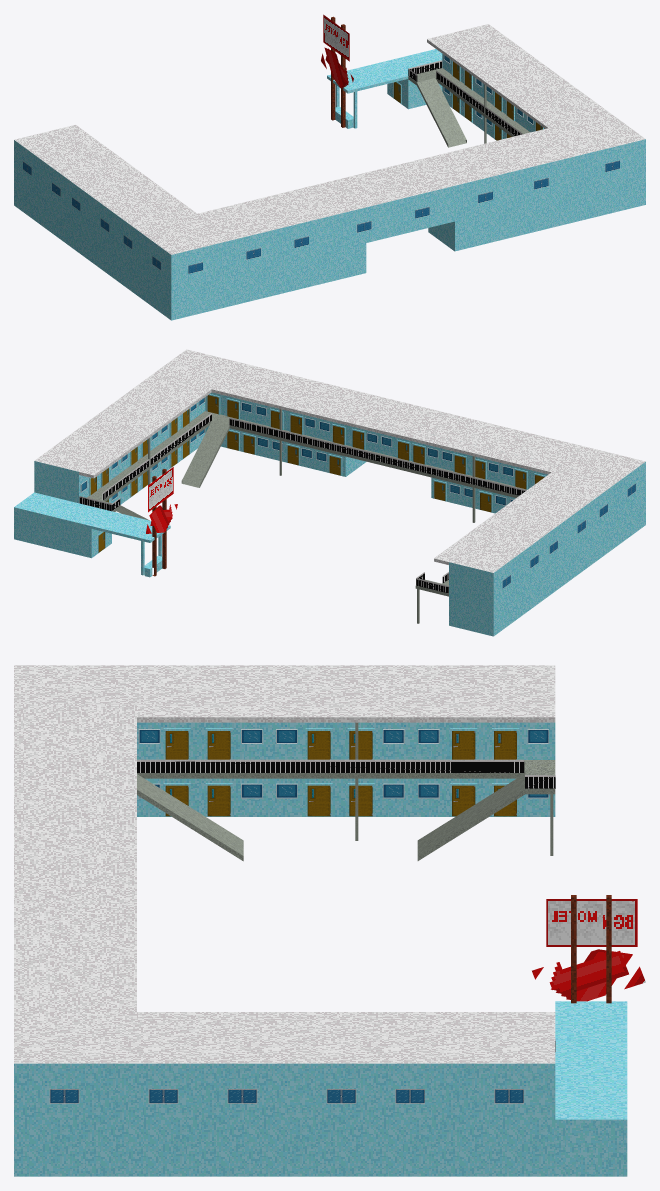
File: BGN-MOTEL.fbx
The picture shows the model from 3 angles, top to bottom: view 1: azimuth 30°, elevation 25°; view 2: azimuth 150°, elevation 25°; view 3: azimuth 270°, elevation 25°; orthographic projection. The views are drawn at different scales.
Parts seen in each view (by area): view 1: BGN_MOTEL; view 2: BGN_MOTEL; view 3: BGN_MOTEL.
Part boxes in pixels (bbox=[...]): BGN_MOTEL: bbox=[14, 14, 645, 320]; BGN_MOTEL: bbox=[14, 349, 645, 636]; BGN_MOTEL: bbox=[14, 665, 645, 1176].
Bounding box in the file's own units: 6301 × 1318 × 4225.
